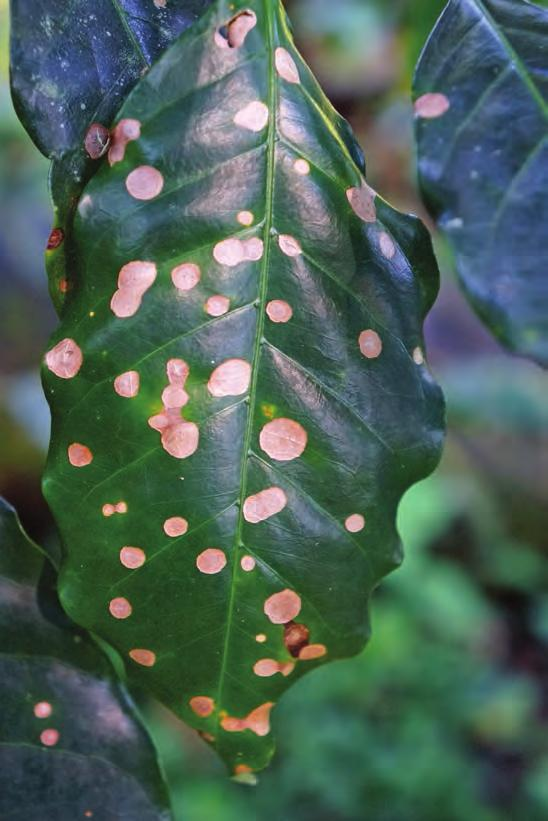ojo de gallo: (106, 92, 347, 749)
